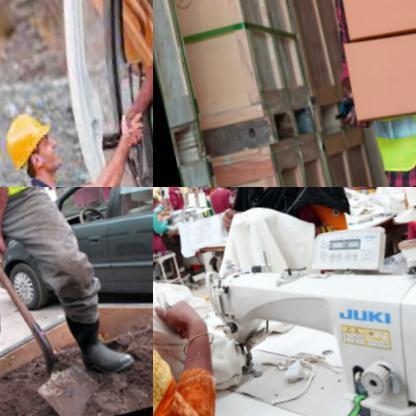vest: (329, 0, 415, 183)
